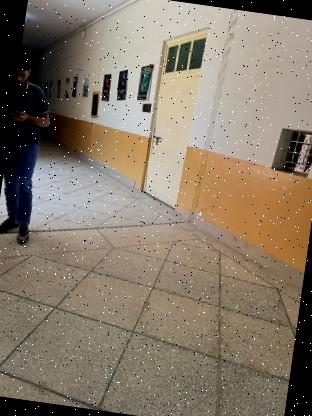door: (128, 13, 216, 222)
